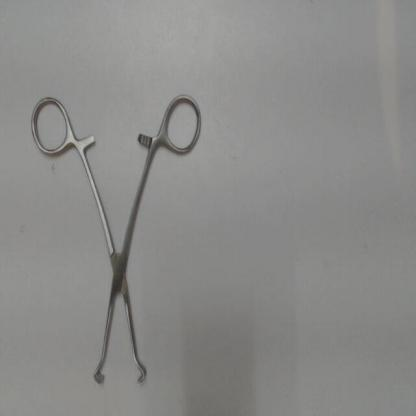Babcock Tissue Forceps: (27, 92, 208, 392)
